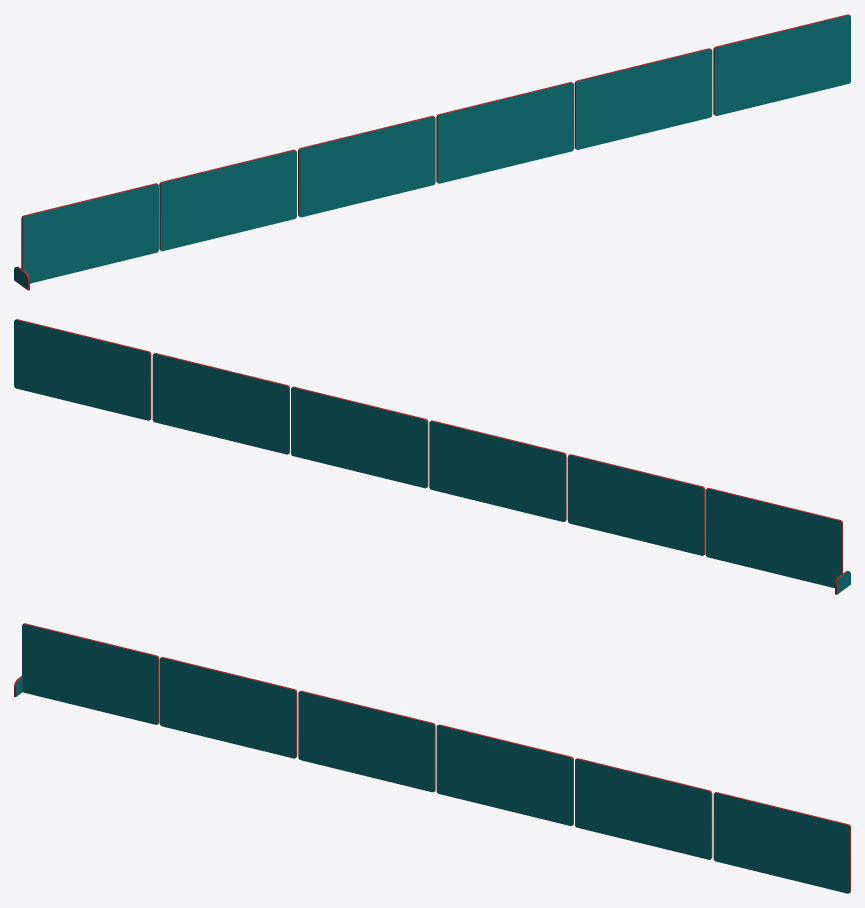
Rendered from SM_Shelf_Divider_Transparent_02.fbx.
The picture shows the model from 3 angles, top to bottom: view 1: azimuth 30°, elevation 25°; view 2: azimuth 150°, elevation 25°; view 3: azimuth 330°, elevation 25°; orthographic projection.
Visible parts, largest first — view 1: SM_Shelf_Divider_Transparent_02; view 2: SM_Shelf_Divider_Transparent_02; view 3: SM_Shelf_Divider_Transparent_02.
Boxes of the visible parts, x1,y1,x2,y2 form: SM_Shelf_Divider_Transparent_02: (14, 14, 850, 290); SM_Shelf_Divider_Transparent_02: (14, 319, 850, 594); SM_Shelf_Divider_Transparent_02: (14, 623, 850, 893).
Size of the model in its own units: 63.26 by 5 by 1.86.
